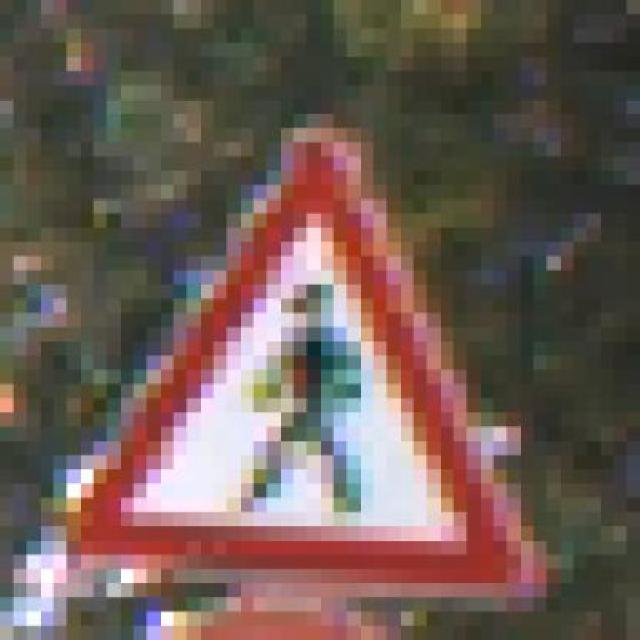Pedestrian Crossing: (53, 99, 587, 612)
